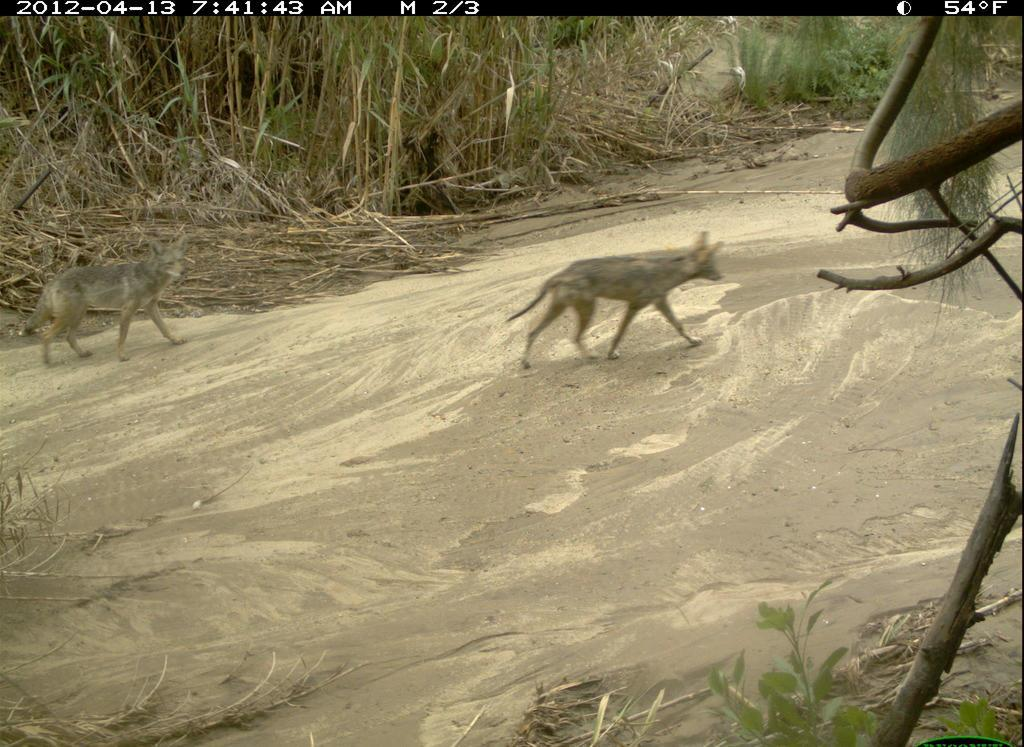coyote: (491, 231, 751, 390), (21, 230, 225, 392)
